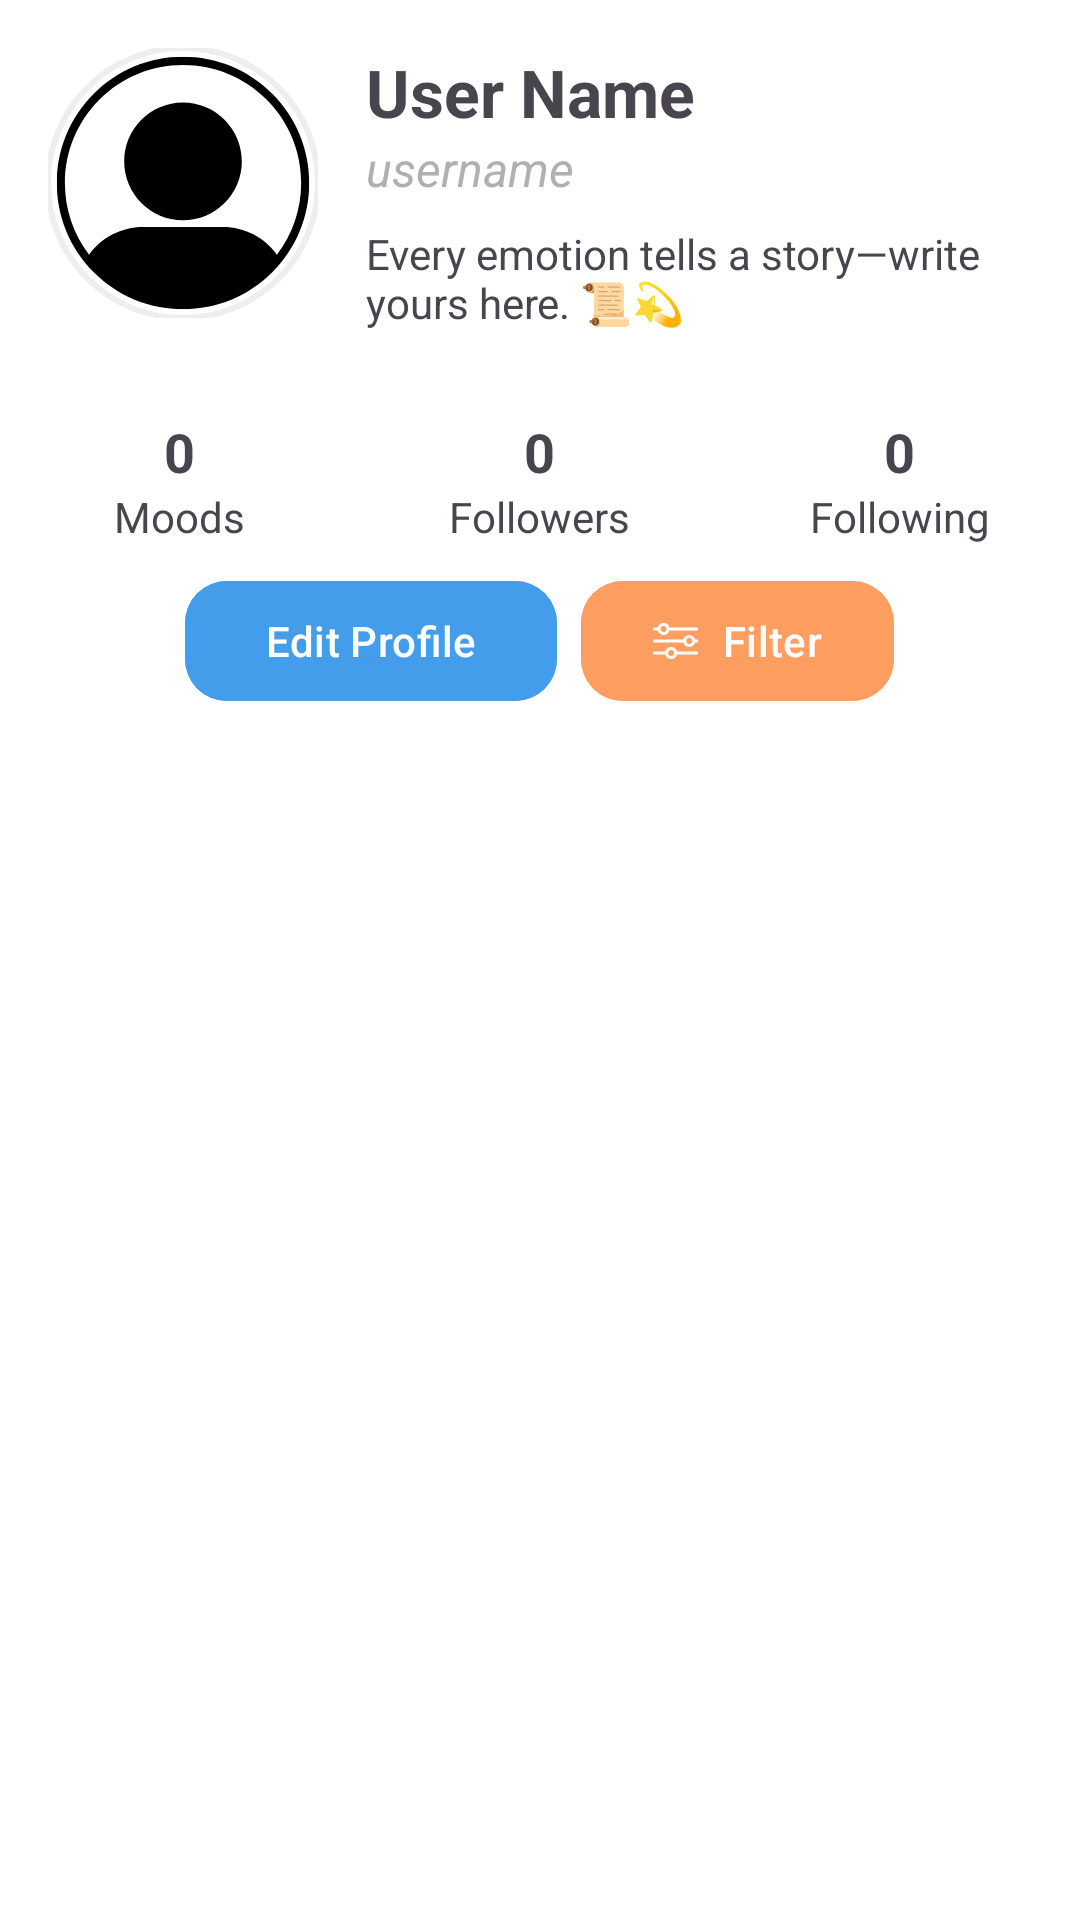

Where to tap for icons on this 1080×1920 app screen, as point (x, y):
profile: point (183, 183)
